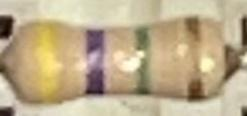Blue: (87, 28, 107, 94)
Green: (133, 26, 152, 96)
Side-Silver: (185, 15, 204, 100)
Yellow: (37, 21, 60, 101)
